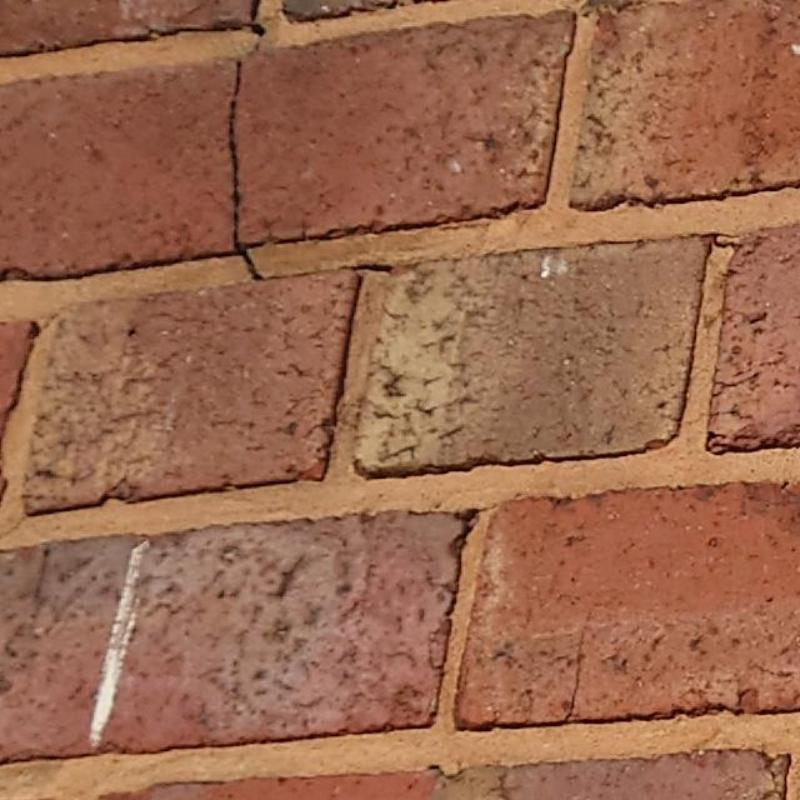crack: (229, 59, 266, 281), (560, 609, 592, 723), (449, 508, 480, 555), (691, 232, 744, 251), (344, 264, 394, 272), (250, 23, 264, 36)
